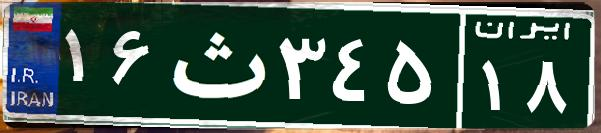1: (57, 26, 110, 107), (475, 38, 525, 113)
3: (273, 28, 330, 110)
4: (330, 28, 385, 110)
5: (385, 28, 445, 110)
6: (110, 28, 158, 105)
8: (525, 38, 570, 115)
ث: (158, 15, 273, 115)
